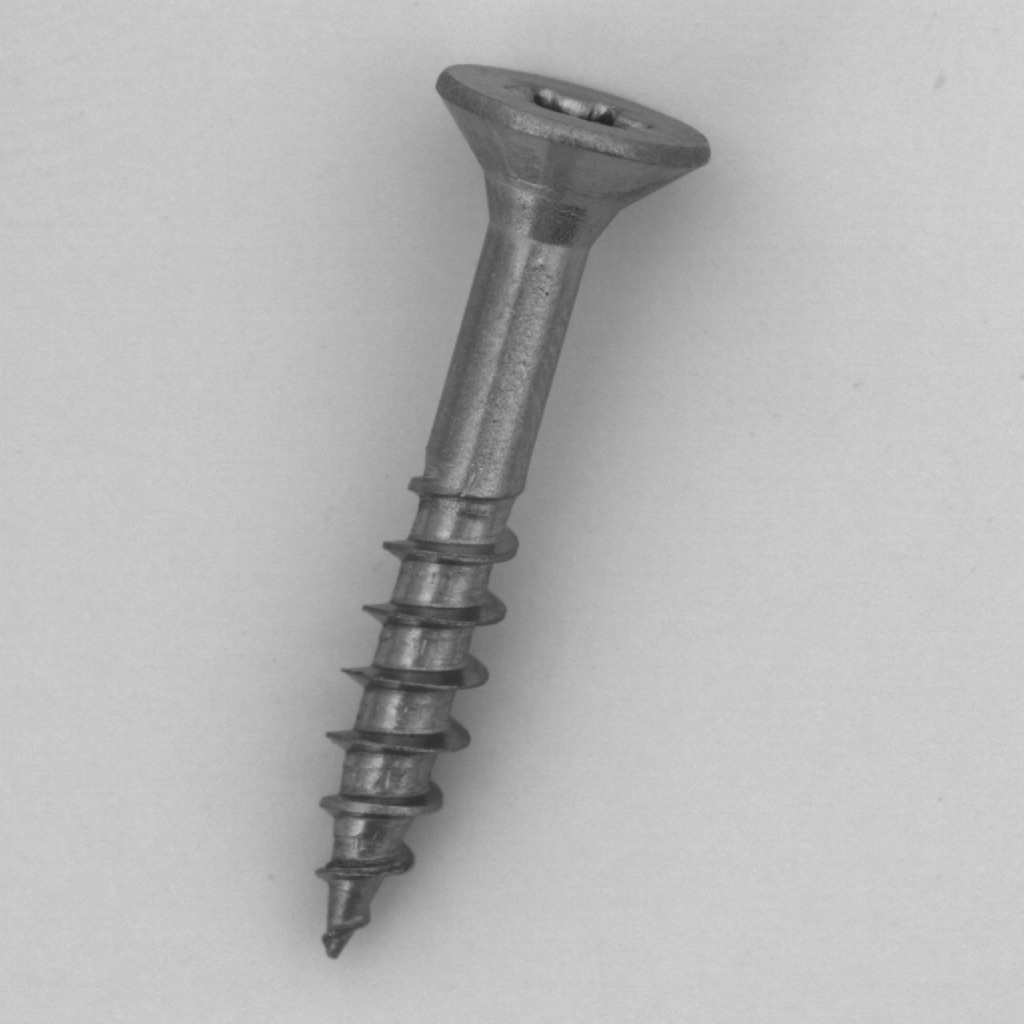good: (285, 45, 722, 979)
